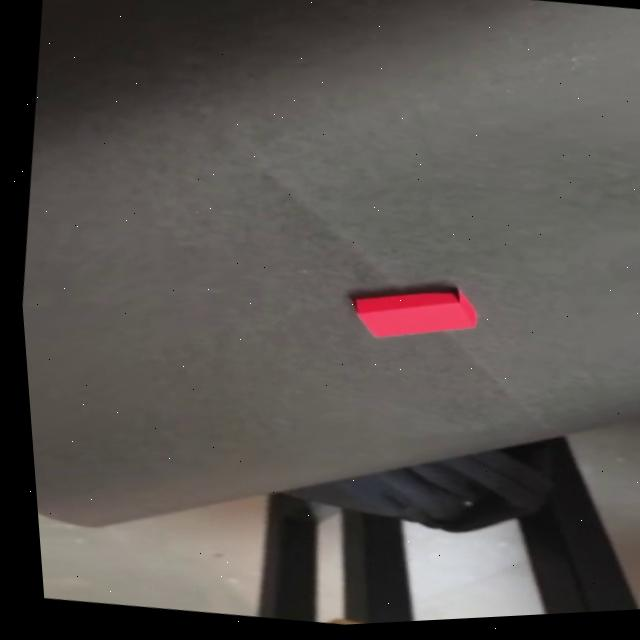red block: (343, 272, 483, 354)
